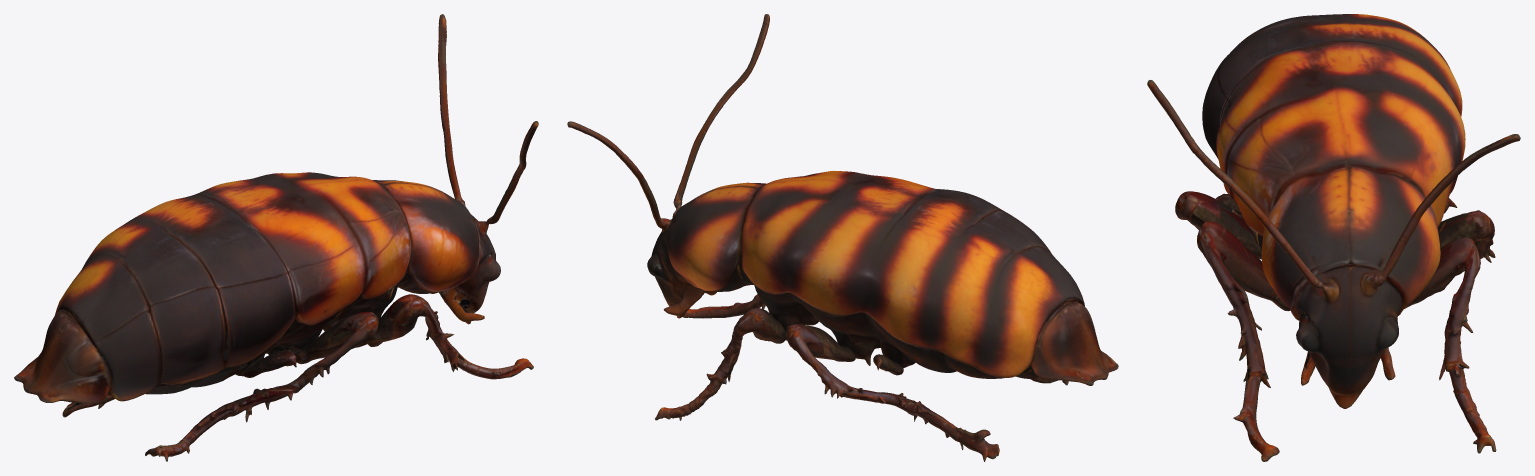
Rendered from Oriental cockroach.glb.
The picture shows the model from 3 angles, left to right: view 1: azimuth 30°, elevation 25°; view 2: azimuth 150°, elevation 25°; view 3: azimuth 270°, elevation 25°; orthographic projection. The views are drawn at different scales.
Bounding box in the file's own units: 1.98 × 1.22 × 1.07.
1 material, 1 textured.
